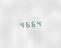four: (36, 19, 41, 27), (18, 21, 23, 28)
six: (24, 20, 29, 28), (30, 19, 35, 27)
